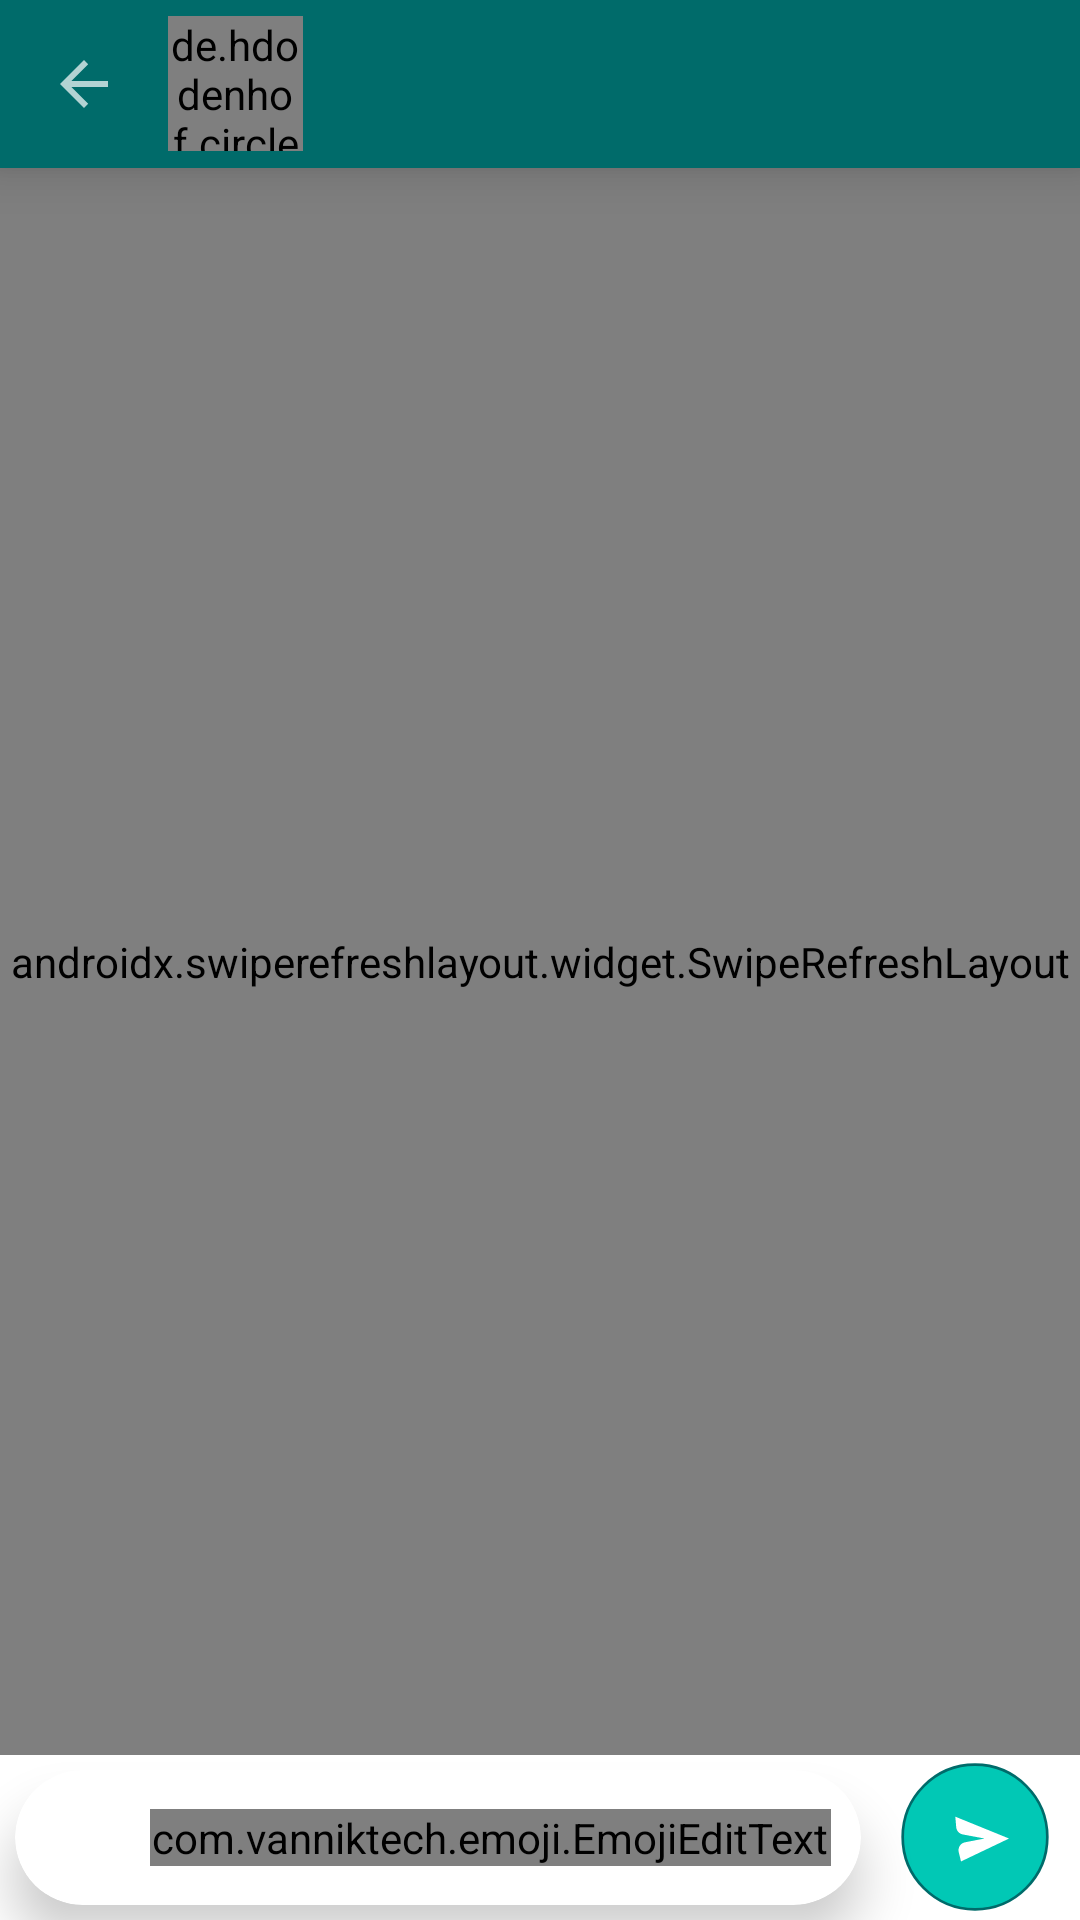

Named icons in this screenshot (1080 x 1920) and their centers, [x,y]:
chat send: [975,1837]
